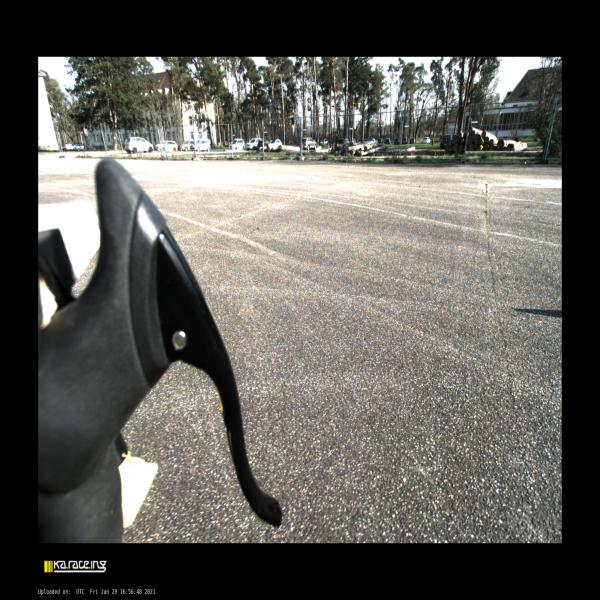yellow_cone: (113, 431, 158, 528)
